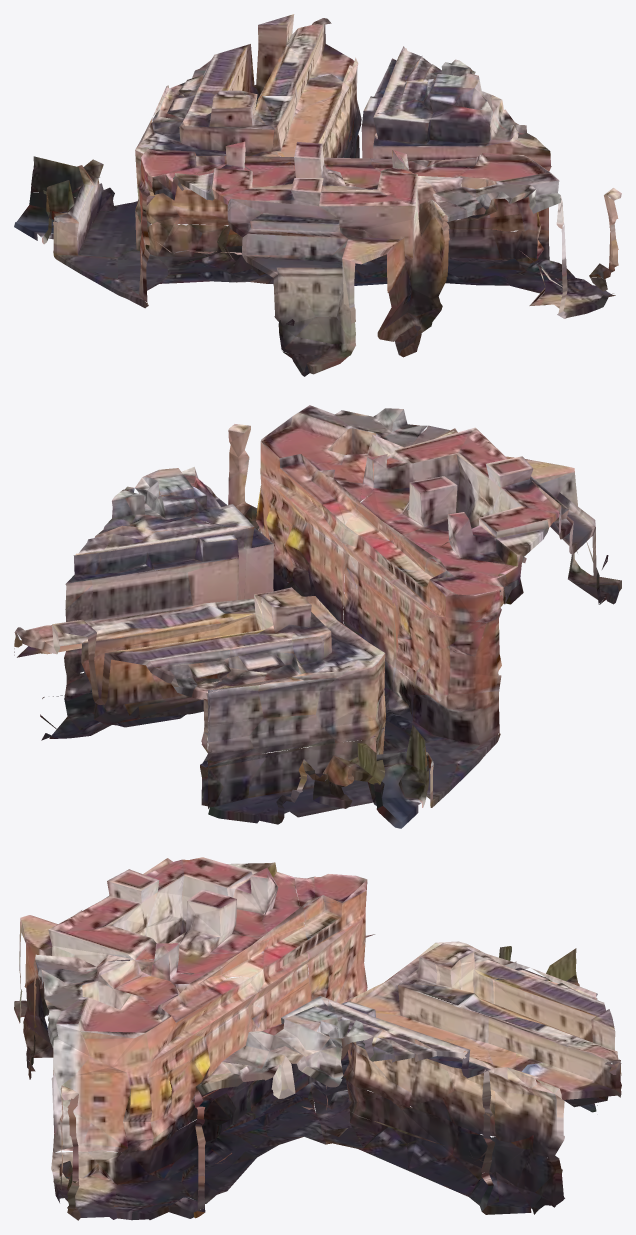
The picture shows the model from 3 angles, top to bottom: view 1: azimuth 30°, elevation 25°; view 2: azimuth 150°, elevation 25°; view 3: azimuth 270°, elevation 25°; orthographic projection. The views are drawn at different scales.
Visible parts, largest first — view 1: Mesh_0; view 2: Mesh_0; view 3: Mesh_0.
Part boxes in pixels (x1=…): Mesh_0: x1=14, y1=14, x2=621, y2=376; Mesh_0: x1=14, y1=405, x2=621, y2=828; Mesh_0: x1=14, y1=857, x2=621, y2=1220.
Size of the model in its own units: 66.59 by 30.86 by 82.55.
Materials: 1 (1 with a texture image).
